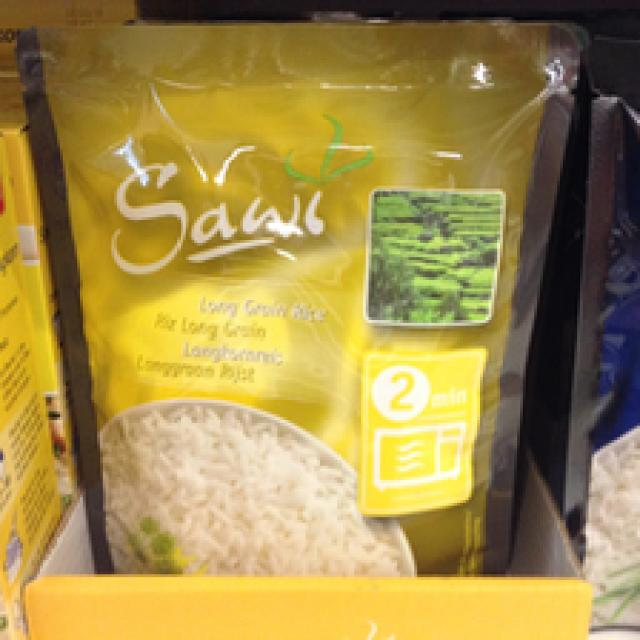groceries: (14, 17, 574, 574)
